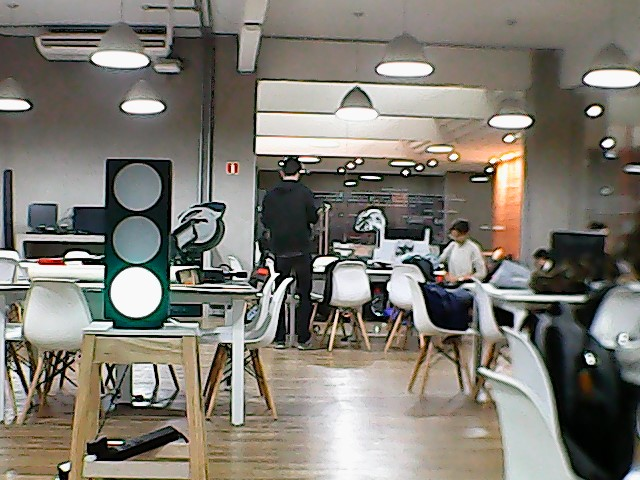verde: (102, 155, 177, 333)
